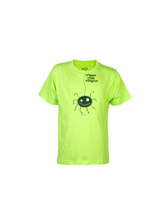clothoes: (37, 57, 133, 169)
